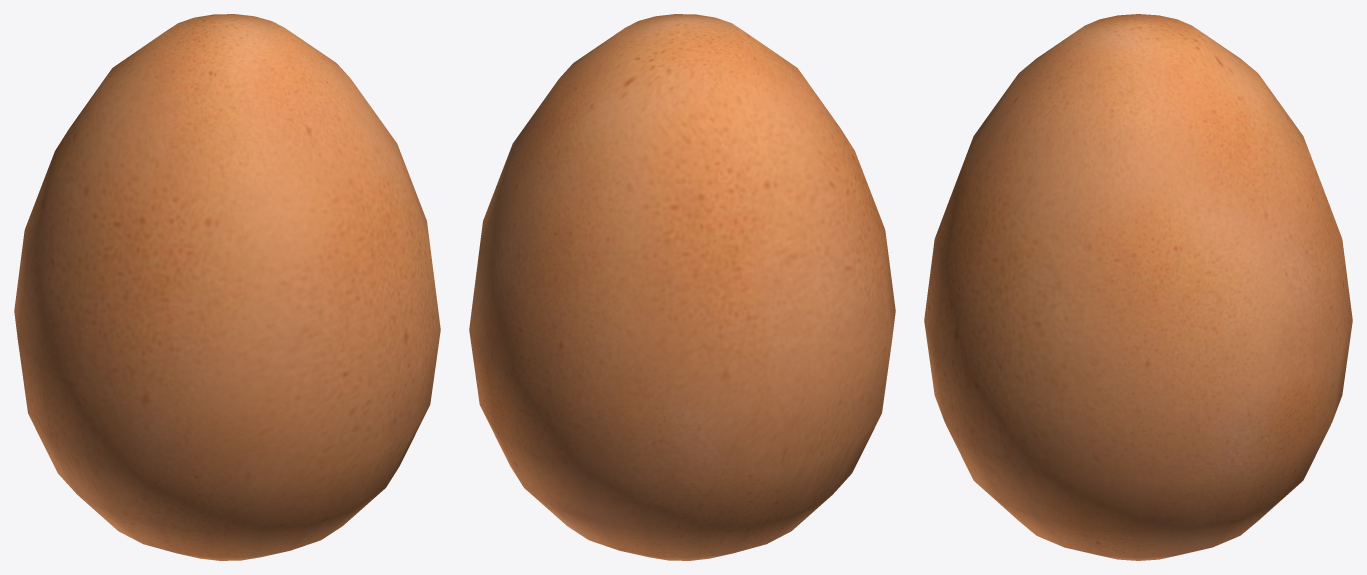
The model's file is Telur.fbx.
3 renders of one model, left to right at view 1: azimuth 30°, elevation 25°; view 2: azimuth 150°, elevation 25°; view 3: azimuth 270°, elevation 25°, orthographic.
Parts seen in each view (by area): view 1: Telur; view 2: Telur; view 3: Telur.
Part boxes in pixels (left/top/right/bottom): Telur: left=14, top=14, right=440, bottom=560; Telur: left=469, top=14, right=895, bottom=560; Telur: left=924, top=14, right=1352, bottom=560.
Size of the model in its own units: 3.94 by 5.26 by 3.94.
Materials: 1 (1 with a texture image).
